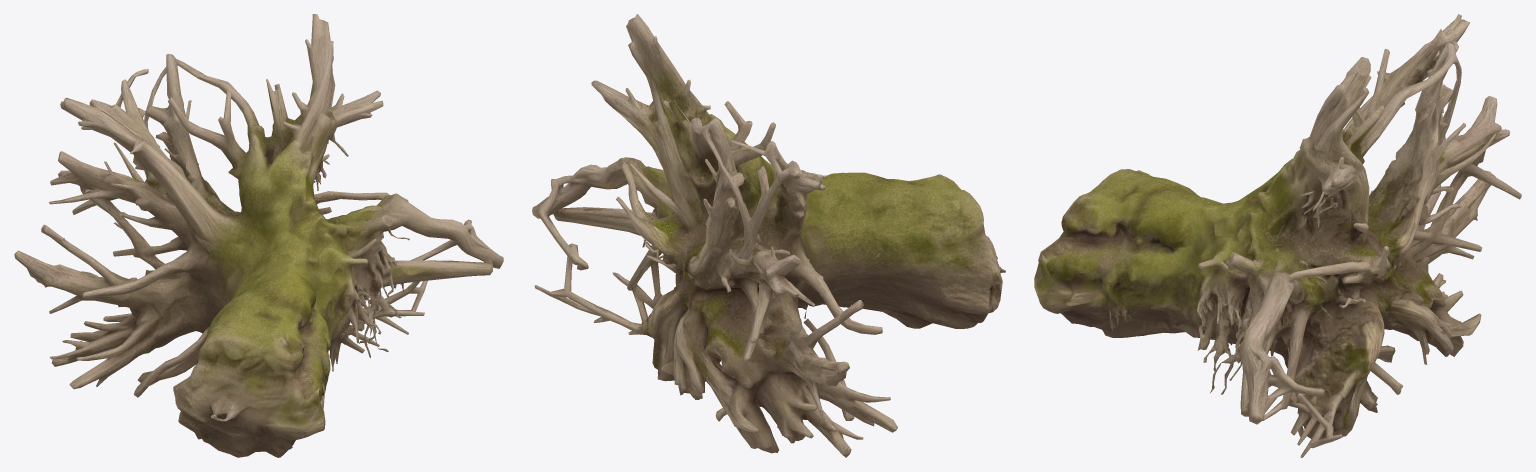
The model's file is prop_roots.glb.
3 views of the same model, side by side, from view 1: azimuth 30°, elevation 25°; view 2: azimuth 150°, elevation 25°; view 3: azimuth 270°, elevation 25° (orthographic). The views are drawn at different scales.
Visible parts, largest first — view 1: Mesh_0; view 2: Mesh_0; view 3: Mesh_0.
Part boxes in pixels (<box>): Mesh_0: <box>14,14,503,457</box>; Mesh_0: <box>532,14,1005,457</box>; Mesh_0: <box>1034,14,1521,457</box>.
Bounding box in the file's own units: 1.91 × 1.61 × 1.8.
1 material, 1 textured.
